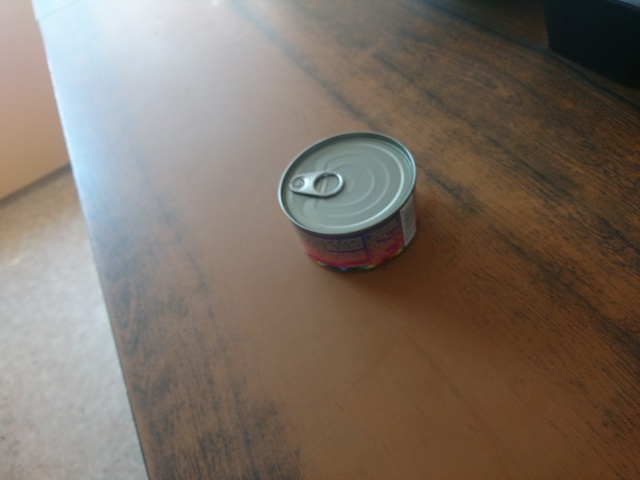Giana Tuna Salad Mexico 185g: (275, 128, 422, 276)
